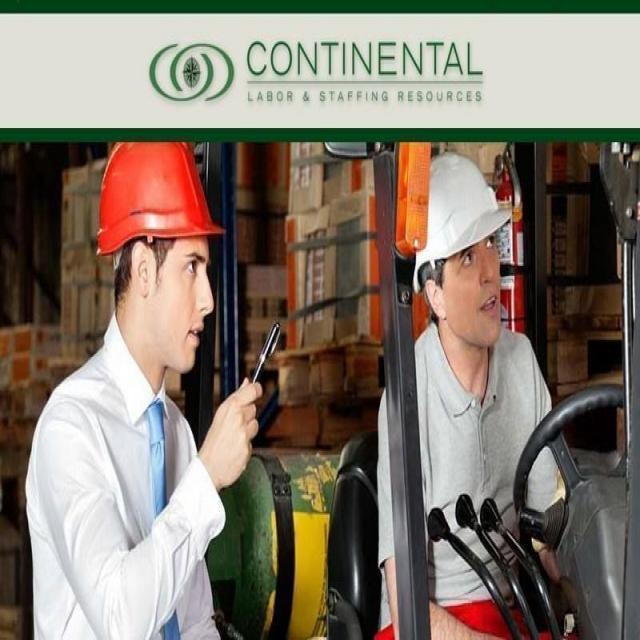helmet: (394, 138, 526, 272), (101, 132, 236, 246)
